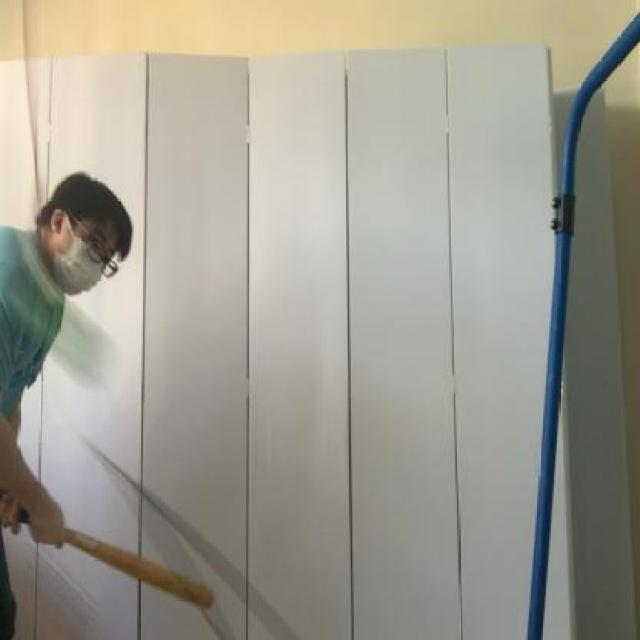baseball: (6, 258, 125, 394)
